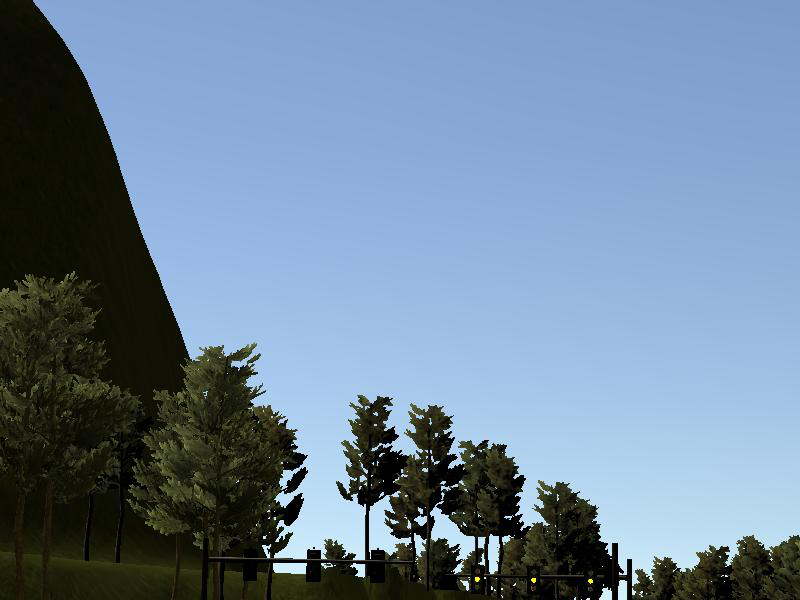yellow: (583, 566, 598, 595), (529, 566, 540, 595), (472, 565, 482, 591)
